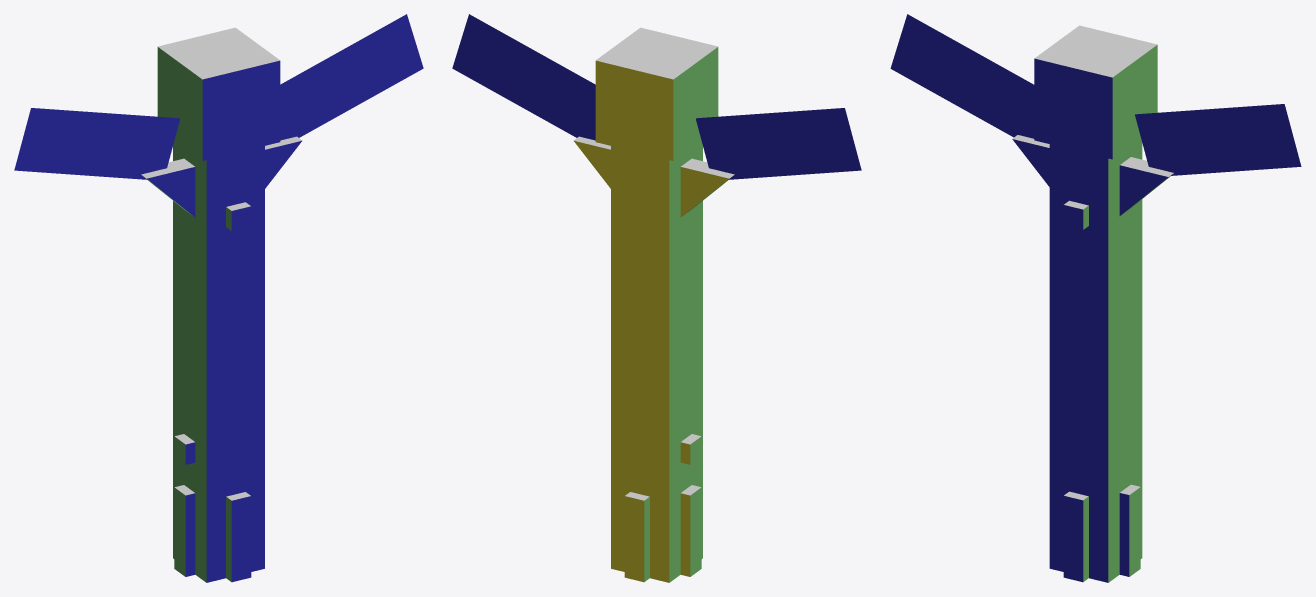
File: stellan.obj
3 renders of one model, left to right at view 1: azimuth 30°, elevation 25°; view 2: azimuth 150°, elevation 25°; view 3: azimuth 330°, elevation 25°, orthographic.
Parts seen in each view (by area): view 1: emitter.016_Cube.049, body.016_Cube.050, leftCross_Plane.001, rightCross_Plane, pommel.016_Cube.051; view 2: emitter.016_Cube.049, body.016_Cube.050, leftCross_Plane.001, rightCross_Plane, pommel.016_Cube.051; view 3: emitter.016_Cube.049, body.016_Cube.050, rightCross_Plane, leftCross_Plane.001, pommel.016_Cube.051.
Boxes of the visible parts, box(x1,y1,x2,y2) form: emitter.016_Cube.049: box(141, 27, 302, 256); body.016_Cube.050: box(173, 232, 264, 501); leftCross_Plane.001: box(14, 108, 179, 179); rightCross_Plane: box(280, 14, 423, 140); pommel.016_Cube.051: box(173, 477, 264, 582); emitter.016_Cube.049: box(573, 27, 734, 256); body.016_Cube.050: box(611, 232, 702, 501); leftCross_Plane.001: box(696, 108, 861, 179); rightCross_Plane: box(452, 14, 595, 140); pommel.016_Cube.051: box(611, 477, 702, 582); emitter.016_Cube.049: box(1012, 25, 1173, 255); body.016_Cube.050: box(1049, 231, 1142, 500); rightCross_Plane: box(1135, 104, 1301, 175); leftCross_Plane.001: box(890, 14, 1034, 138); pommel.016_Cube.051: box(1049, 476, 1142, 582).
Bounding box in the file's own units: 2.1 × 2.5 × 0.4.
1 material, 1 textured.
